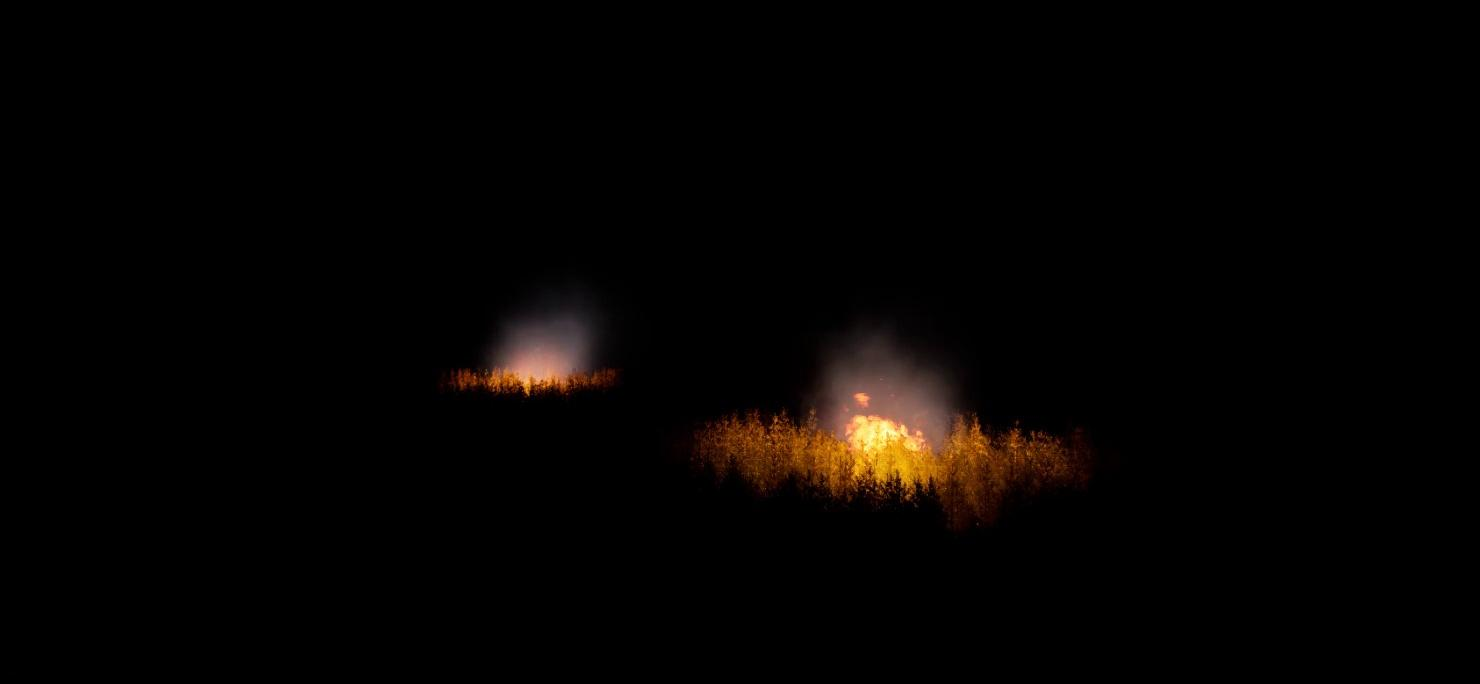fire: (847, 393, 939, 460)
smoke: (818, 334, 962, 455), (481, 315, 602, 384)
